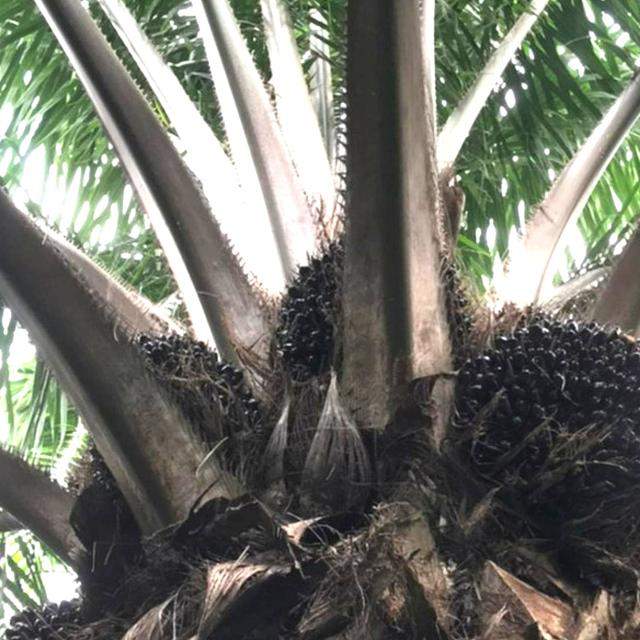unripe: (451, 302, 640, 549), (262, 205, 477, 414), (112, 320, 273, 484)
